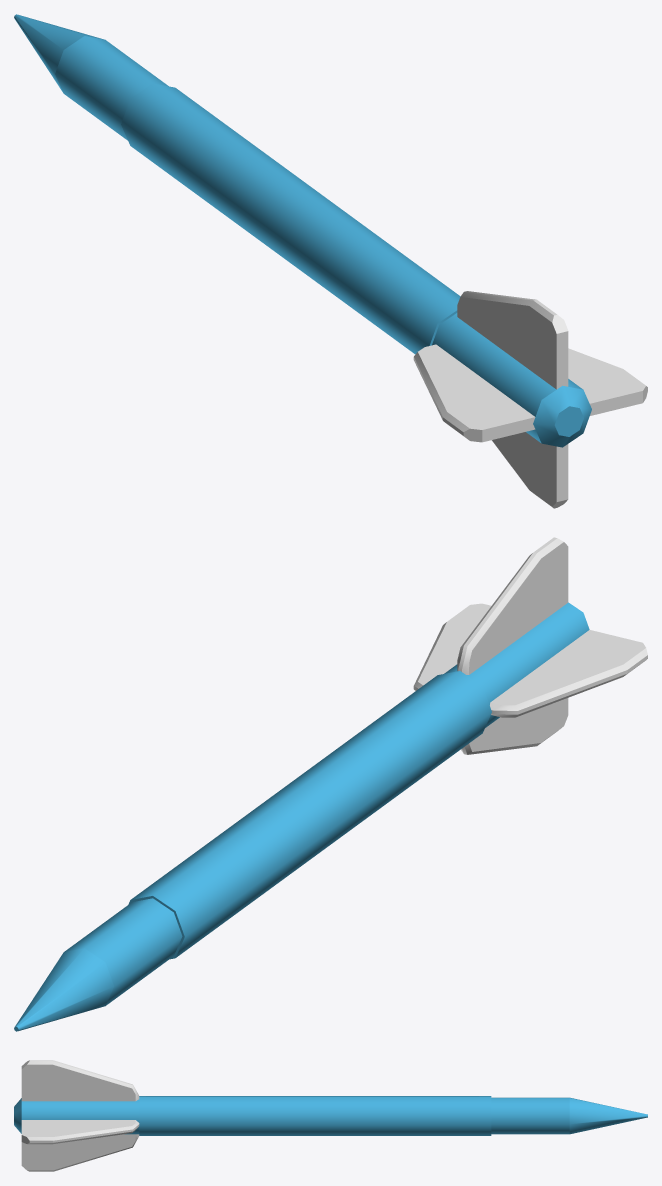
Rendered from apfsds_bullet_M829A2.fbx.
The picture shows the model from 3 angles, top to bottom: view 1: azimuth 30°, elevation 25°; view 2: azimuth 150°, elevation 25°; view 3: azimuth 270°, elevation 25°; orthographic projection. The views are drawn at different scales.
Visible parts, largest first — view 1: Cylinder.001, Cylinder.002; view 2: Cylinder.001, Cylinder.002; view 3: Cylinder.001, Cylinder.002.
Boxes of the visible parts, x1=… form: Cylinder.001: x1=14, y1=14, x2=591, y2=447; Cylinder.002: x1=413, y1=291, x2=647, y2=508; Cylinder.001: x1=14, y1=602, x2=589, y2=1031; Cylinder.002: x1=413, y1=537, x2=647, y2=754; Cylinder.001: x1=14, y1=1096, x2=647, y2=1135; Cylinder.002: x1=21, y1=1060, x2=139, y2=1171.
Size of the model in its own units: 78 by 78 by 405.
